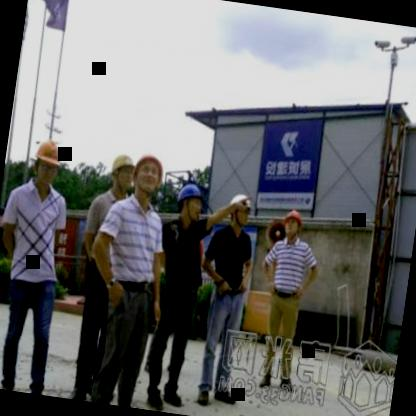helmet: (127, 146, 166, 208), (26, 138, 64, 193), (173, 178, 209, 233), (104, 146, 140, 199), (224, 190, 252, 232), (278, 208, 306, 245)
